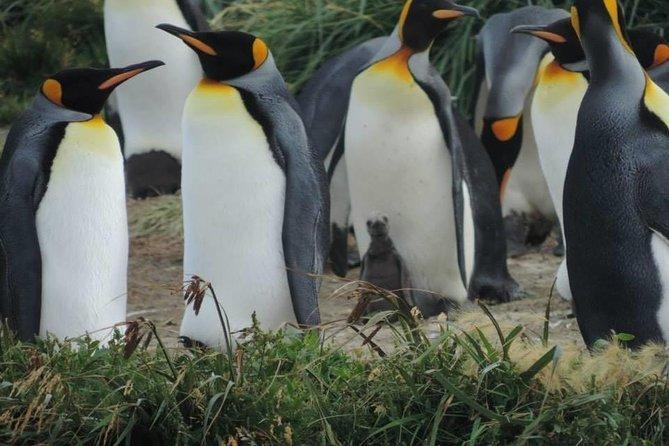Penguin: (158, 24, 331, 352), (0, 60, 162, 339), (345, 0, 481, 317), (563, 0, 667, 345), (473, 7, 567, 256), (510, 17, 590, 302), (295, 35, 386, 277), (104, 0, 212, 168), (451, 108, 523, 304), (360, 213, 408, 301), (623, 30, 667, 95)
